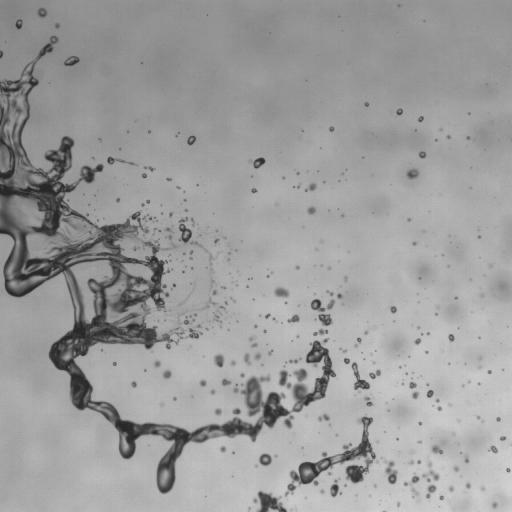droplet: (253, 491, 287, 511), (310, 299, 335, 325), (423, 460, 439, 482), (404, 474, 419, 497), (330, 479, 341, 497), (201, 298, 217, 309), (425, 483, 436, 498), (274, 287, 289, 297), (259, 453, 271, 465), (252, 157, 265, 168), (213, 354, 224, 367), (64, 56, 79, 65), (406, 169, 418, 178), (288, 314, 299, 323), (369, 369, 380, 378), (431, 445, 442, 453), (243, 353, 250, 365), (162, 369, 171, 378), (306, 183, 316, 191), (318, 414, 329, 421), (38, 8, 46, 17), (187, 136, 195, 145), (213, 313, 221, 322), (365, 396, 372, 406), (307, 206, 315, 214), (489, 445, 497, 453), (221, 378, 230, 385), (16, 19, 22, 28), (214, 408, 221, 415), (412, 391, 418, 399), (396, 108, 402, 115), (419, 151, 425, 158), (390, 306, 396, 313), (448, 334, 454, 341), (254, 353, 260, 360), (154, 360, 160, 367), (409, 382, 416, 388), (427, 390, 433, 397), (414, 338, 420, 344), (200, 380, 206, 386), (220, 446, 226, 452), (165, 227, 172, 232), (210, 278, 215, 285), (418, 116, 423, 122), (131, 381, 136, 387), (492, 502, 497, 508), (251, 188, 256, 193), (212, 290, 217, 295), (337, 293, 342, 298), (265, 313, 270, 318), (344, 358, 349, 363), (230, 360, 235, 365), (500, 436, 505, 441), (453, 466, 458, 471), (465, 483, 470, 488), (448, 486, 453, 491), (133, 246, 139, 250), (340, 348, 346, 352), (464, 456, 468, 462), (55, 23, 59, 28), (329, 126, 333, 131), (141, 173, 146, 177), (214, 238, 218, 243), (327, 291, 332, 295), (211, 389, 215, 394), (437, 406, 442, 410), (439, 495, 444, 499), (364, 102, 368, 106), (167, 235, 171, 239), (171, 284, 175, 288), (268, 350, 272, 354), (240, 373, 244, 377), (496, 417, 500, 421), (506, 468, 510, 472), (320, 489, 324, 493), (219, 306, 224, 309), (169, 212, 172, 216), (189, 250, 192, 254), (295, 266, 299, 269), (344, 277, 347, 281), (187, 294, 190, 298), (272, 318, 276, 321), (409, 461, 413, 464), (116, 198, 119, 201), (153, 228, 156, 231), (413, 242, 416, 245), (189, 256, 192, 259), (210, 268, 213, 271), (436, 399, 439, 402), (418, 422, 421, 425), (481, 487, 484, 490), (447, 135, 449, 138), (467, 136, 469, 139), (130, 162, 133, 164), (167, 178, 170, 180), (177, 186, 179, 189), (478, 235, 480, 238), (222, 286, 225, 288), (263, 330, 266, 332), (364, 331, 367, 333), (113, 362, 115, 365), (488, 370, 490, 373), (476, 416, 479, 418), (418, 440, 420, 443), (418, 460, 420, 463), (297, 185, 299, 187), (408, 218, 410, 220), (182, 270, 184, 272), (232, 299, 234, 301), (225, 302, 227, 304), (194, 313, 196, 315), (435, 313, 437, 315), (156, 319, 158, 321), (296, 335, 298, 337), (425, 351, 427, 353), (160, 403, 162, 405), (397, 503, 399, 505)
ligament: (0, 36, 328, 493), (284, 415, 377, 497), (179, 217, 202, 247), (351, 362, 370, 392), (382, 459, 397, 484), (204, 249, 213, 266), (107, 157, 124, 164), (313, 329, 327, 335), (249, 337, 257, 347), (355, 337, 361, 346), (288, 359, 299, 363), (178, 300, 185, 306), (145, 166, 153, 170), (191, 219, 194, 225), (0, 50, 2, 58)
